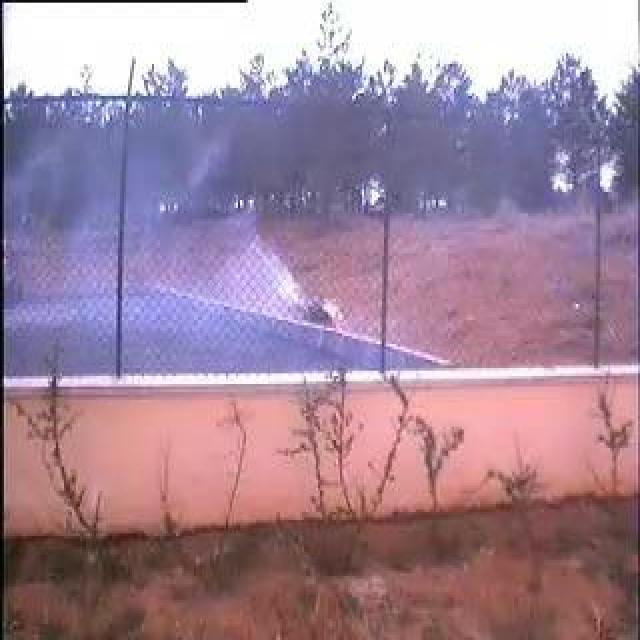Smoke: (77, 127, 317, 372)
